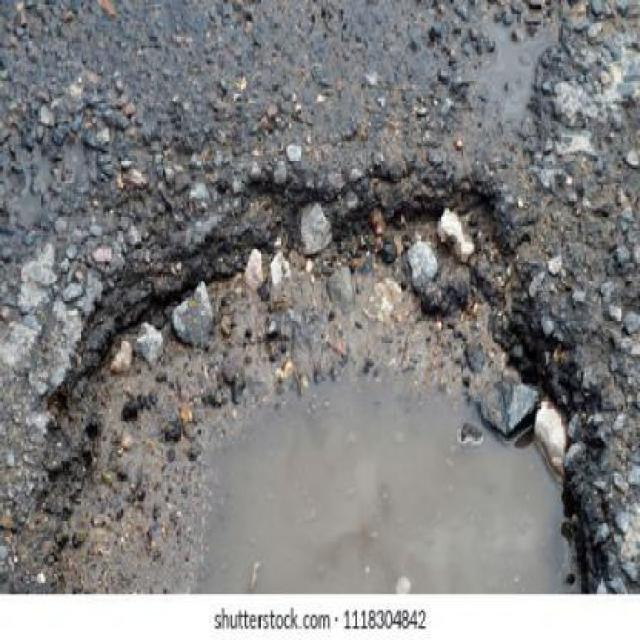Buraco: (30, 167, 621, 595)
